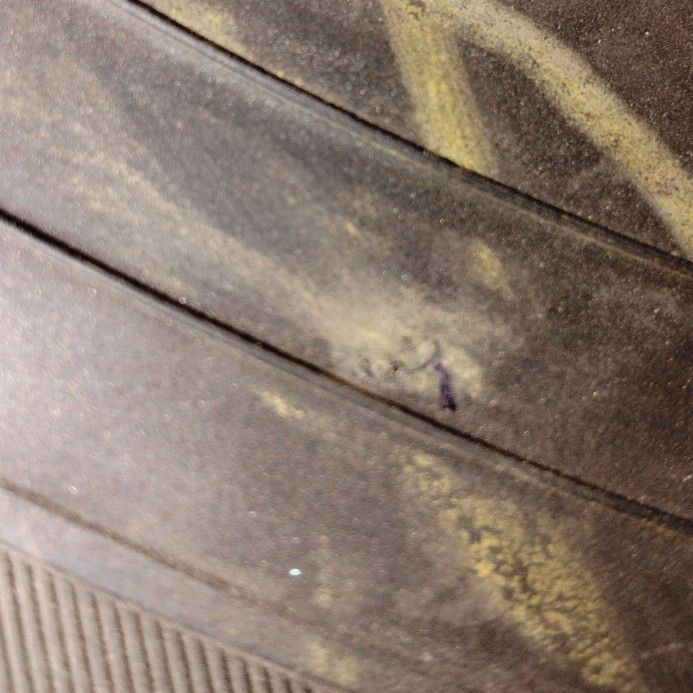cut: (427, 334, 471, 419)
